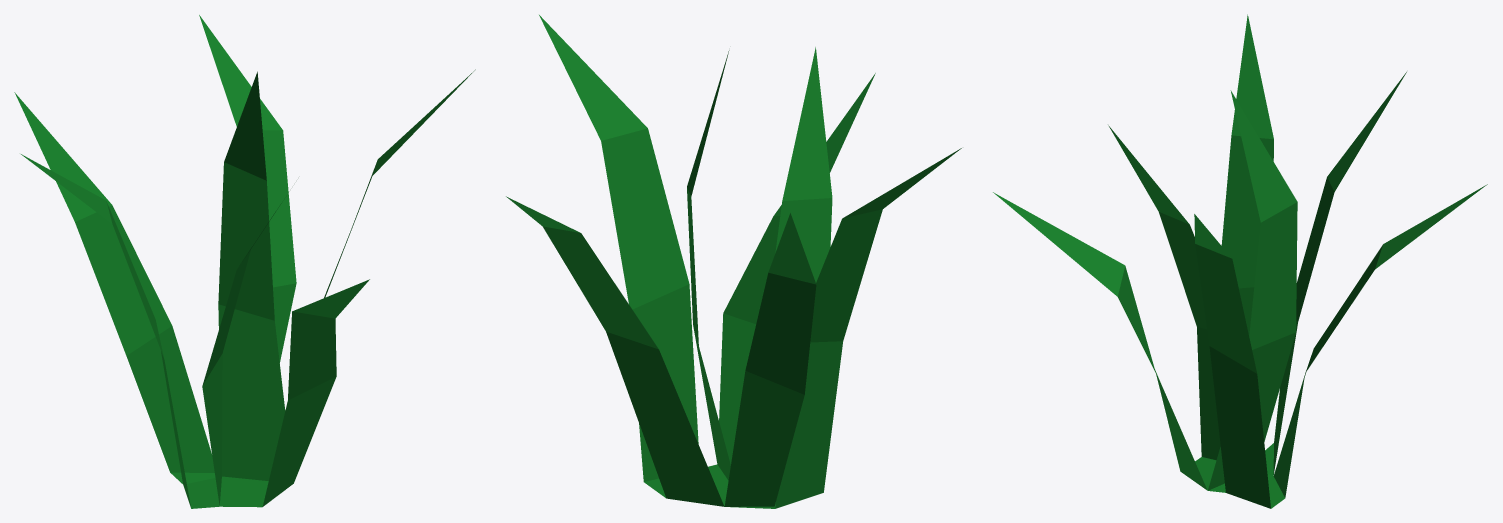
Rendered from graas.fbx.
The picture shows the model from 3 angles, left to right: view 1: azimuth 30°, elevation 25°; view 2: azimuth 150°, elevation 25°; view 3: azimuth 270°, elevation 25°; orthographic projection. The views are drawn at different scales.
Visible parts, largest first — view 1: Plane.005; view 2: Plane.005; view 3: Plane.005.
Part boxes in pixels (x1,y1,x2,y2): Plane.005: (14,15,475,508); Plane.005: (506,15,961,508); Plane.005: (993,14,1487,508).
Size of the model in its own units: 228 by 210 by 240.
